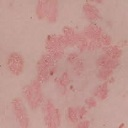Psoriasis: (33, 27, 114, 123)
